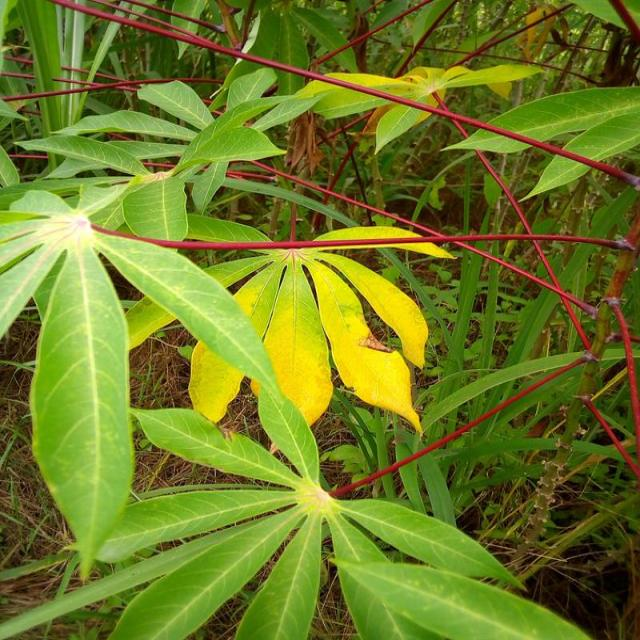cassava leaf: (1, 1, 636, 637), (28, 239, 134, 577)
